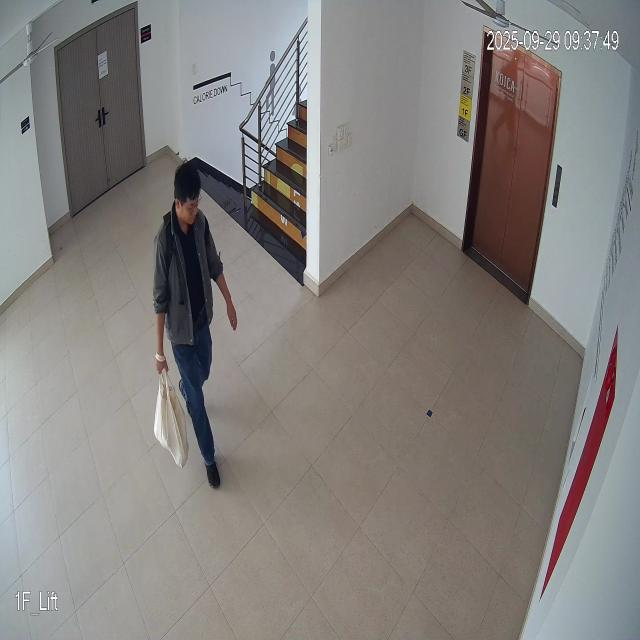face: (172, 159, 205, 232)
